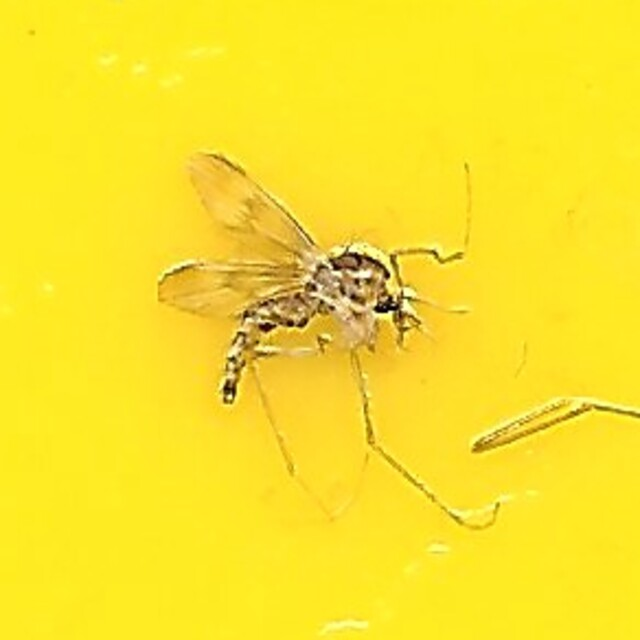Nematocera: (219, 234, 421, 406)
